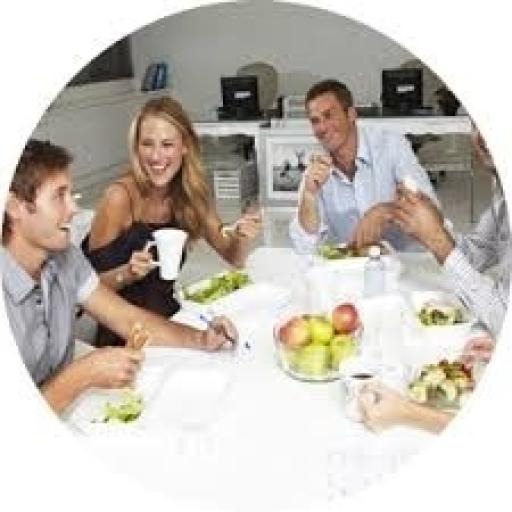eating: (0, 137, 239, 421), (75, 93, 264, 346), (284, 78, 446, 258)
